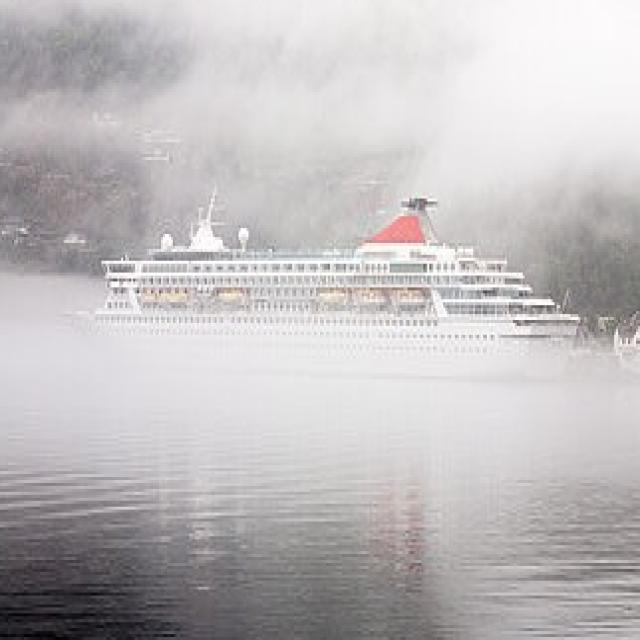passenger ship: (68, 188, 584, 382)
